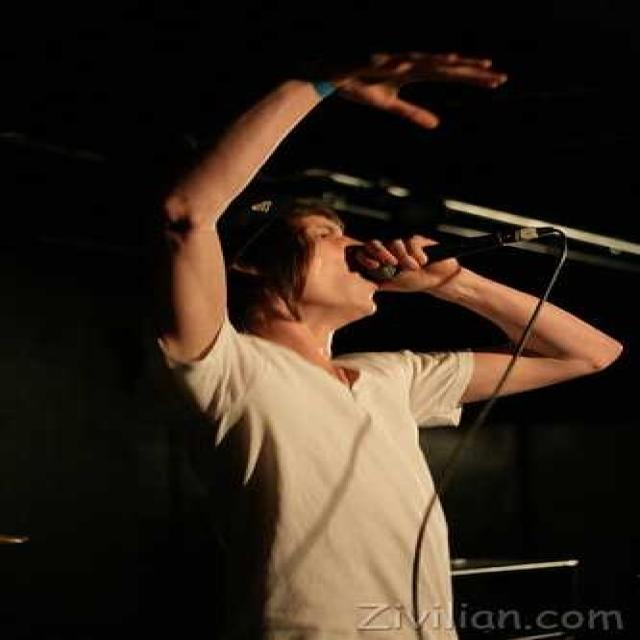microphone: (363, 223, 561, 283)
